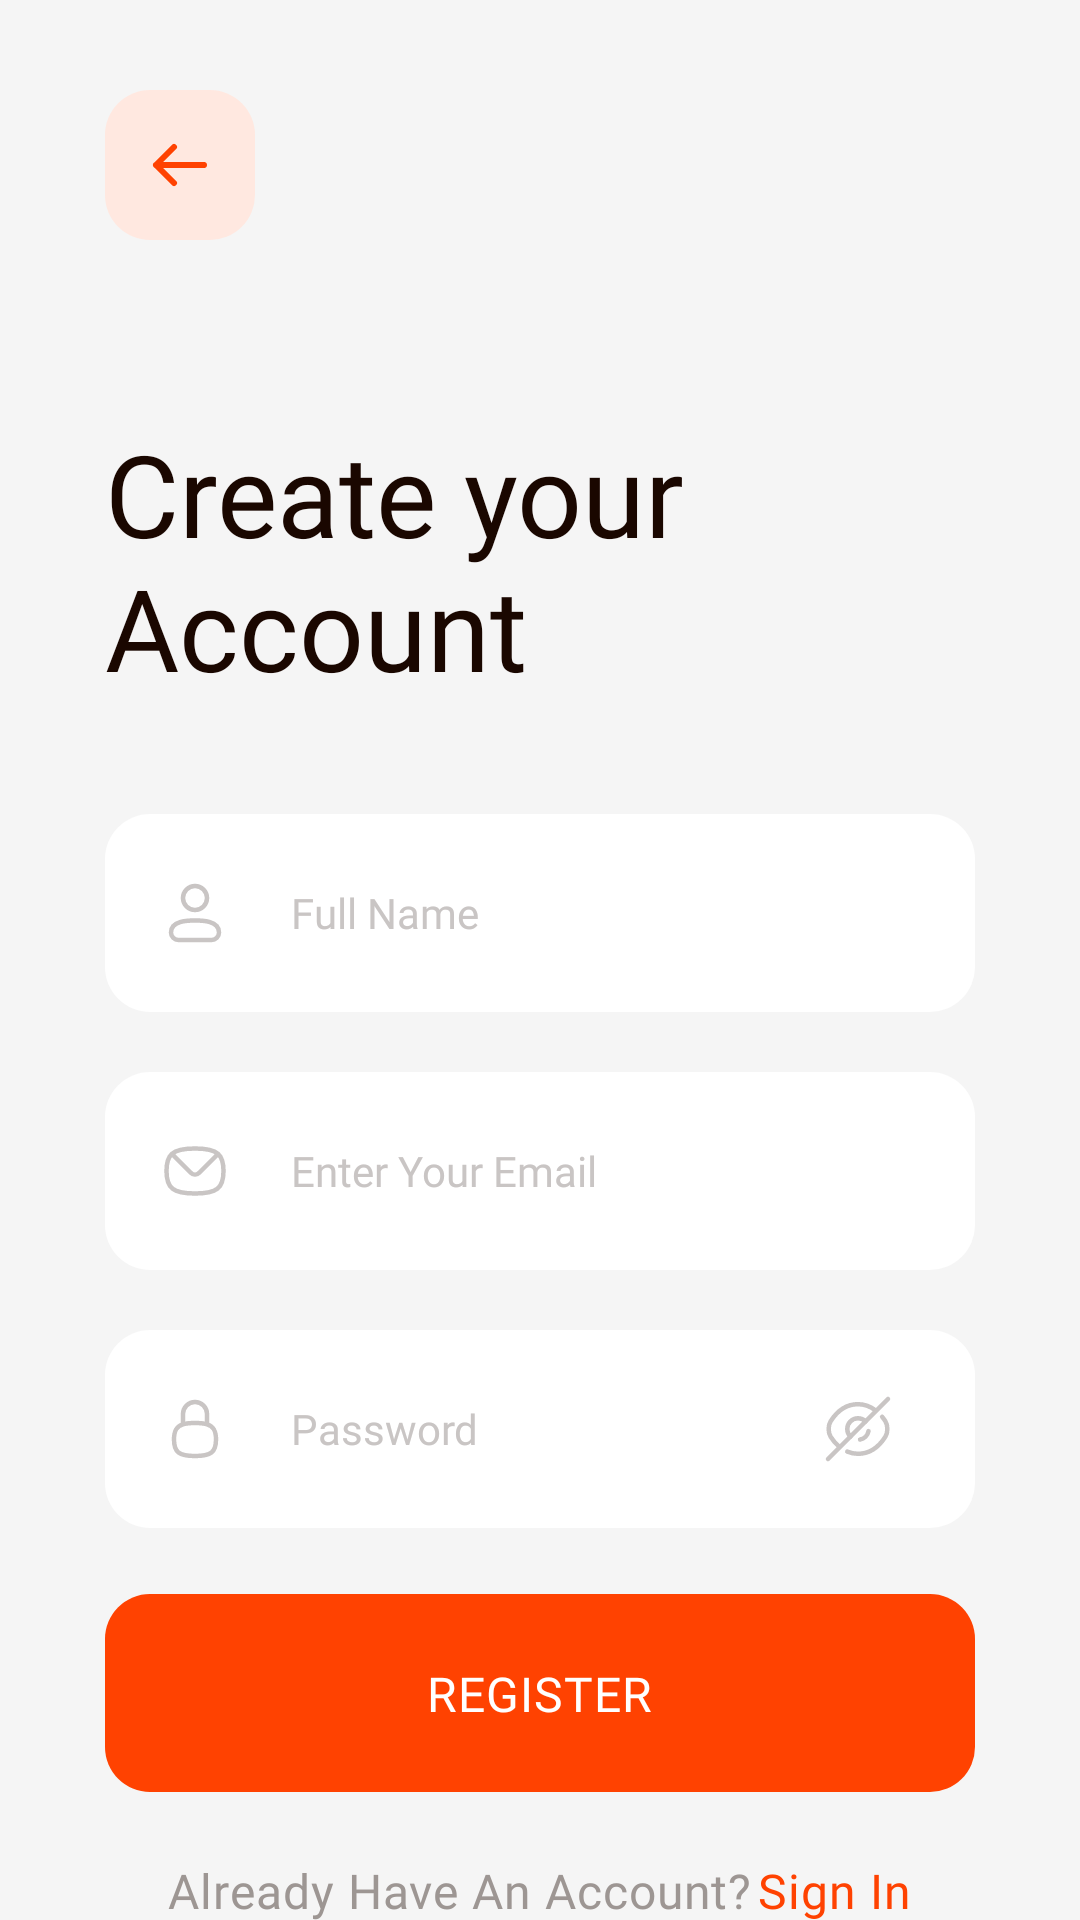

Icon bounding boxes for this 1080*1920 phone screenshot, format Rect(x1, y1, x2, y2):
back: Rect(105, 90, 255, 240)
